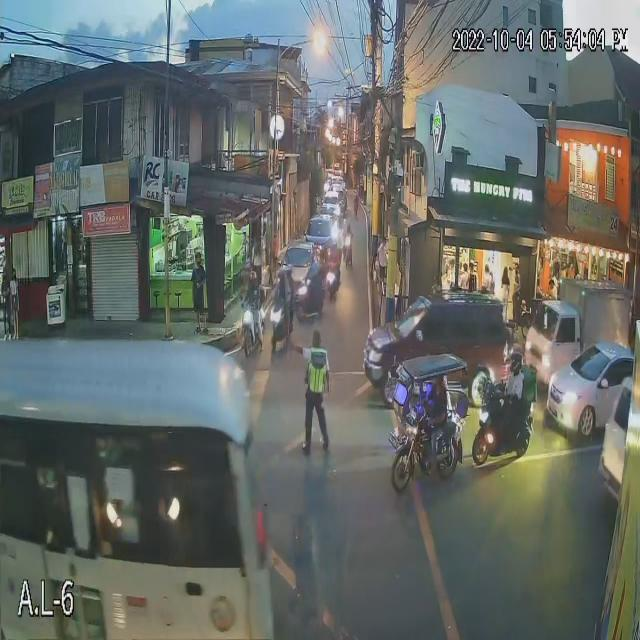helmet: (502, 354, 523, 373), (248, 270, 261, 288), (276, 268, 288, 286)
motorcycle: (471, 399, 535, 466), (268, 295, 294, 351), (240, 308, 266, 355)
rider: (501, 374, 524, 457), (272, 283, 293, 344), (245, 286, 264, 352)
